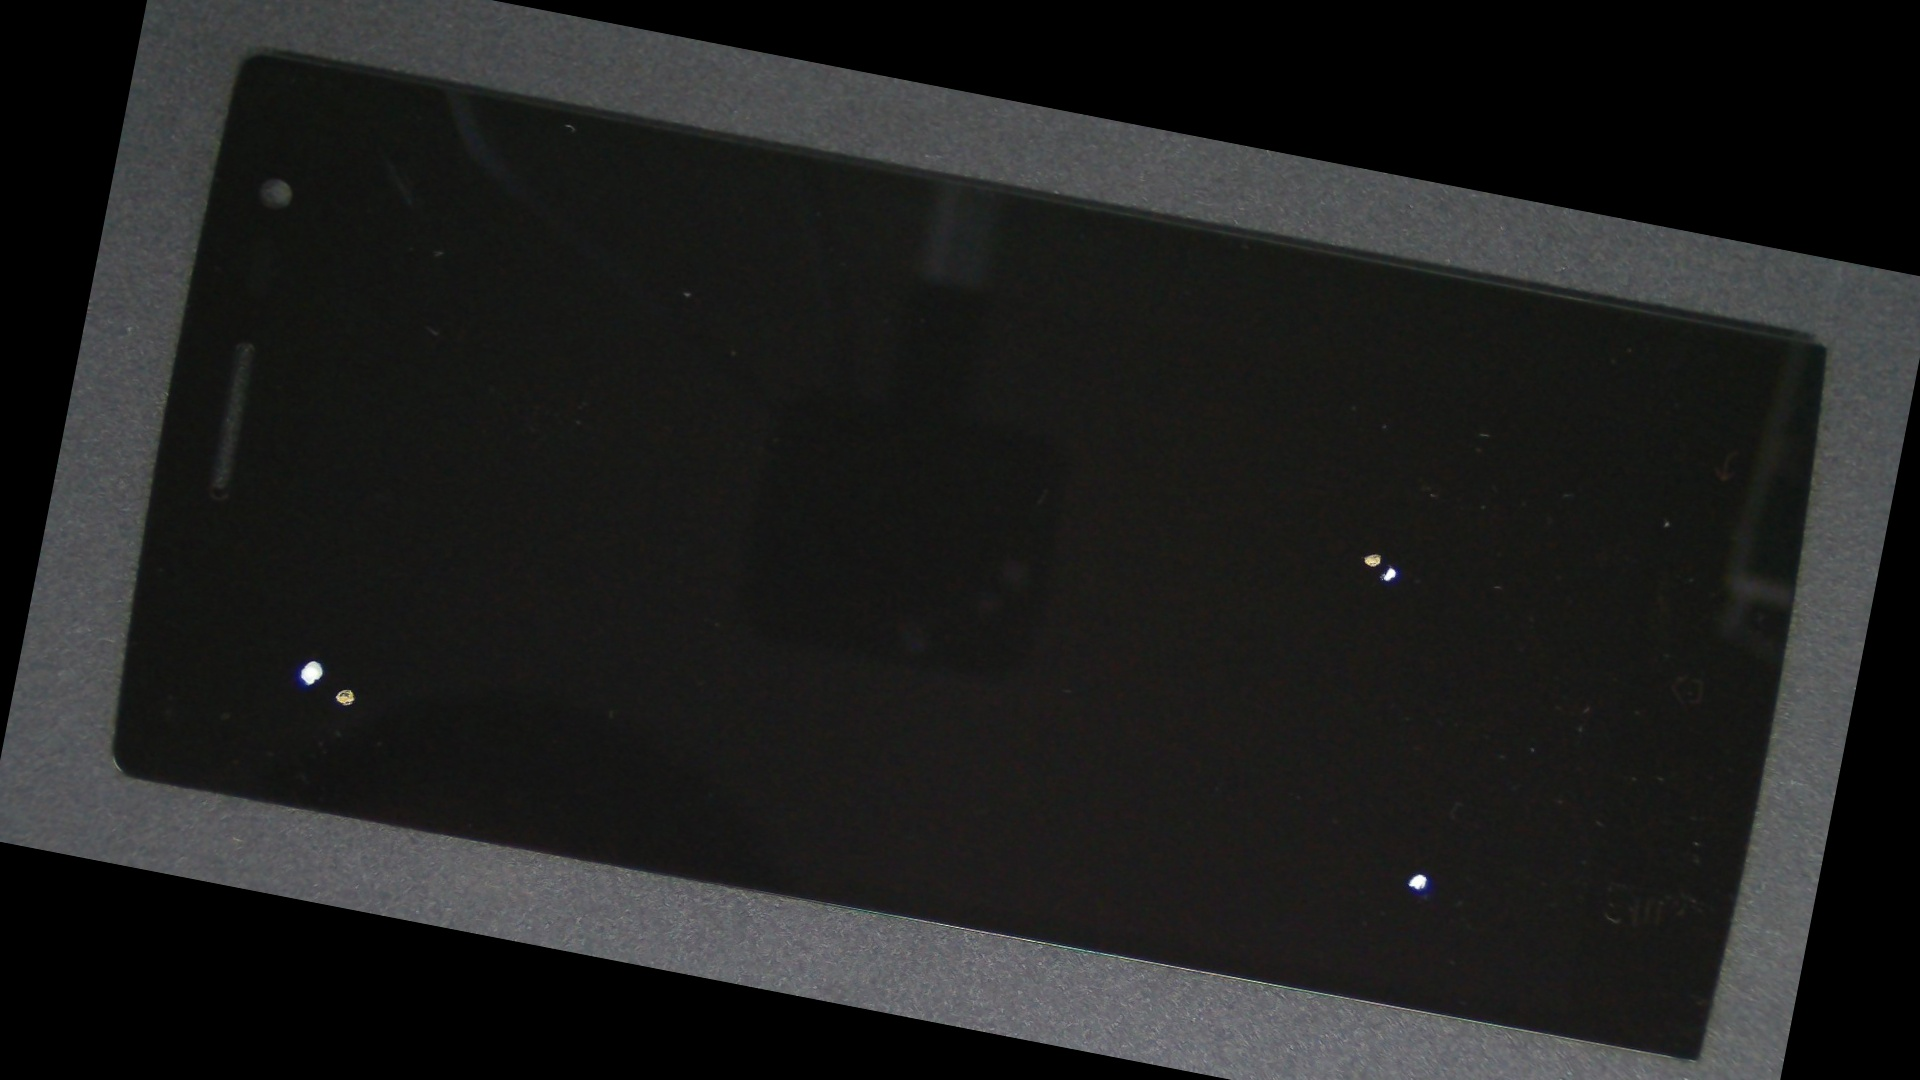oil: (679, 404, 1871, 1080), (702, 249, 1899, 843), (696, 244, 1900, 831), (148, 311, 578, 932), (127, 297, 520, 920)
